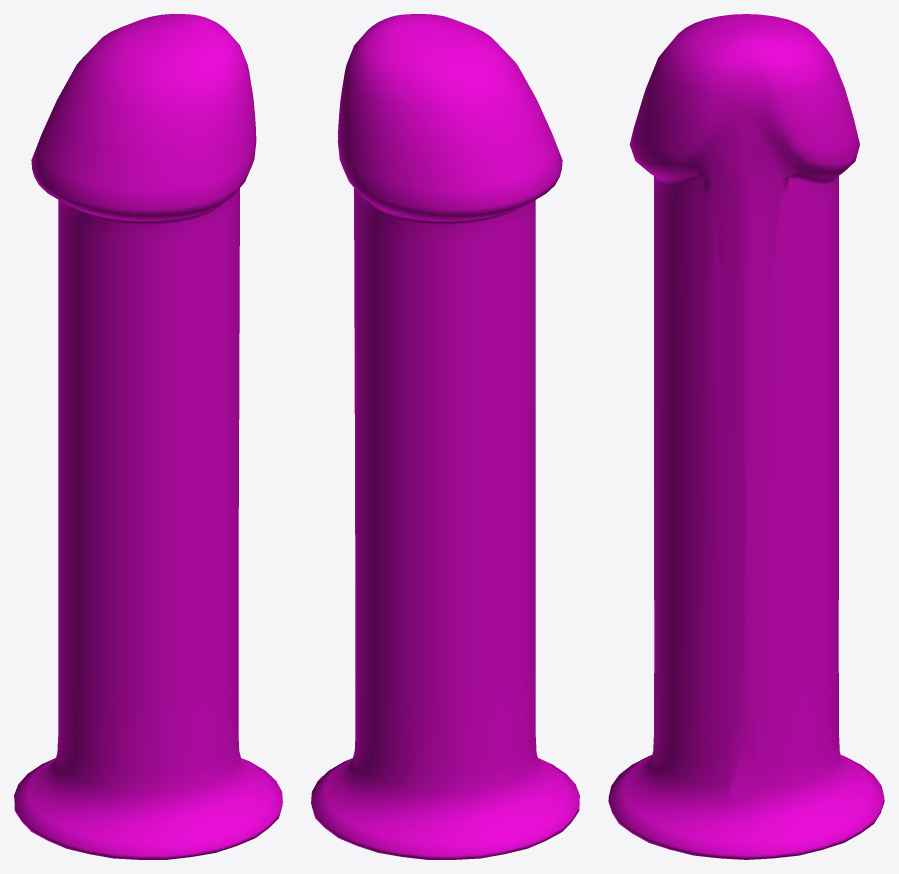
File: dildo.fbx
3 views of the same model, side by side, from view 1: azimuth 30°, elevation 25°; view 2: azimuth 150°, elevation 25°; view 3: azimuth 270°, elevation 25° (orthographic). The views are drawn at different scales.
Visible parts, largest first — view 1: Cylinder; view 2: Cylinder; view 3: Cylinder.
Boxes of the visible parts, x1,y1,x2,y2 form: Cylinder: [14, 14, 282, 859]; Cylinder: [311, 14, 579, 859]; Cylinder: [608, 14, 884, 859].
Bounding box in the file's own units: 291 × 920 × 291.
